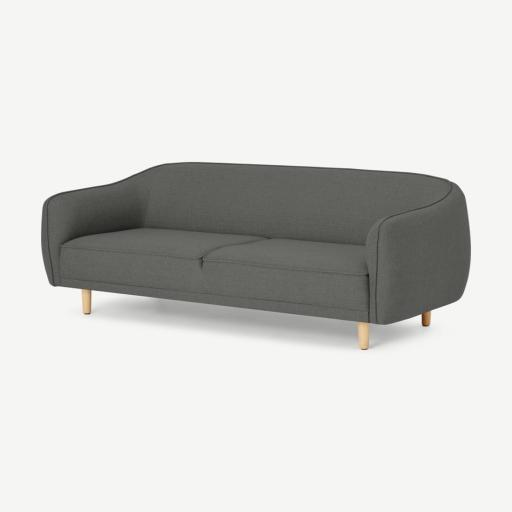back_cushion: (89, 163, 449, 244)
left_arm: (366, 184, 470, 325)
legs: (358, 322, 369, 349), (82, 290, 91, 314), (422, 312, 430, 326)
right_arm: (41, 177, 145, 286)
seat_cushion: (60, 228, 368, 316)
two-seater: (0, 0, 511, 512)
